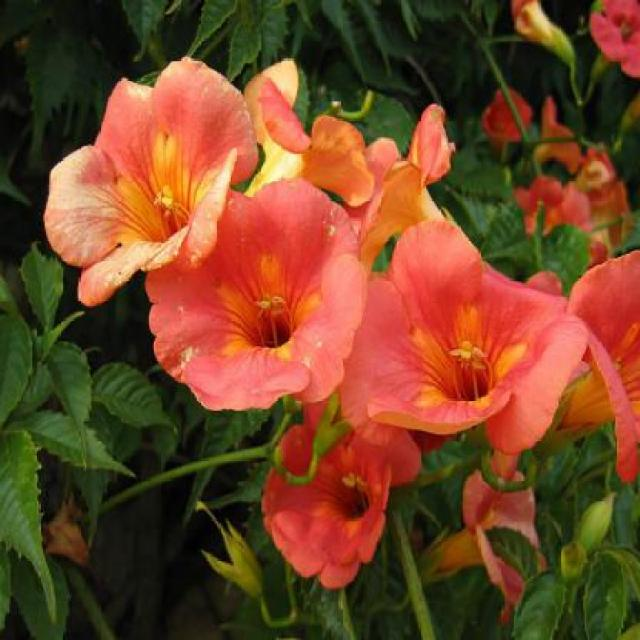flower: (300, 212, 594, 457), (136, 166, 367, 429), (34, 56, 260, 290), (276, 373, 416, 581), (552, 177, 634, 466)
